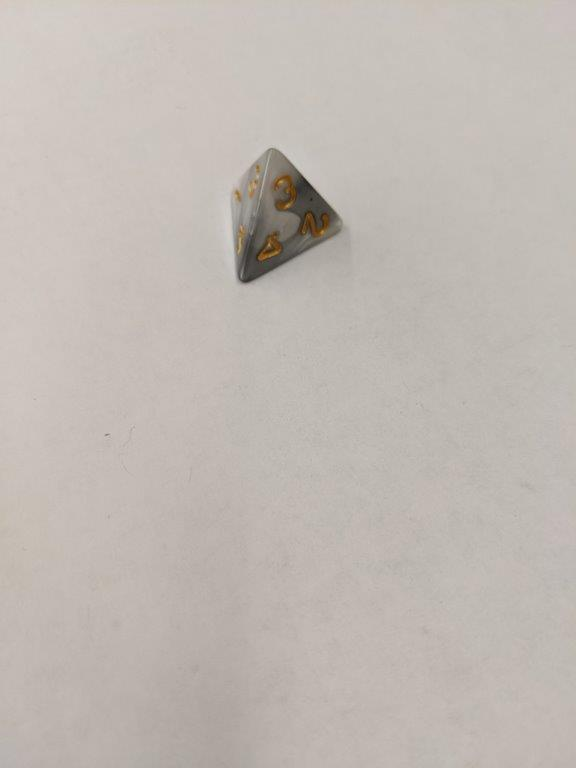d4-3: (223, 146, 347, 284)
